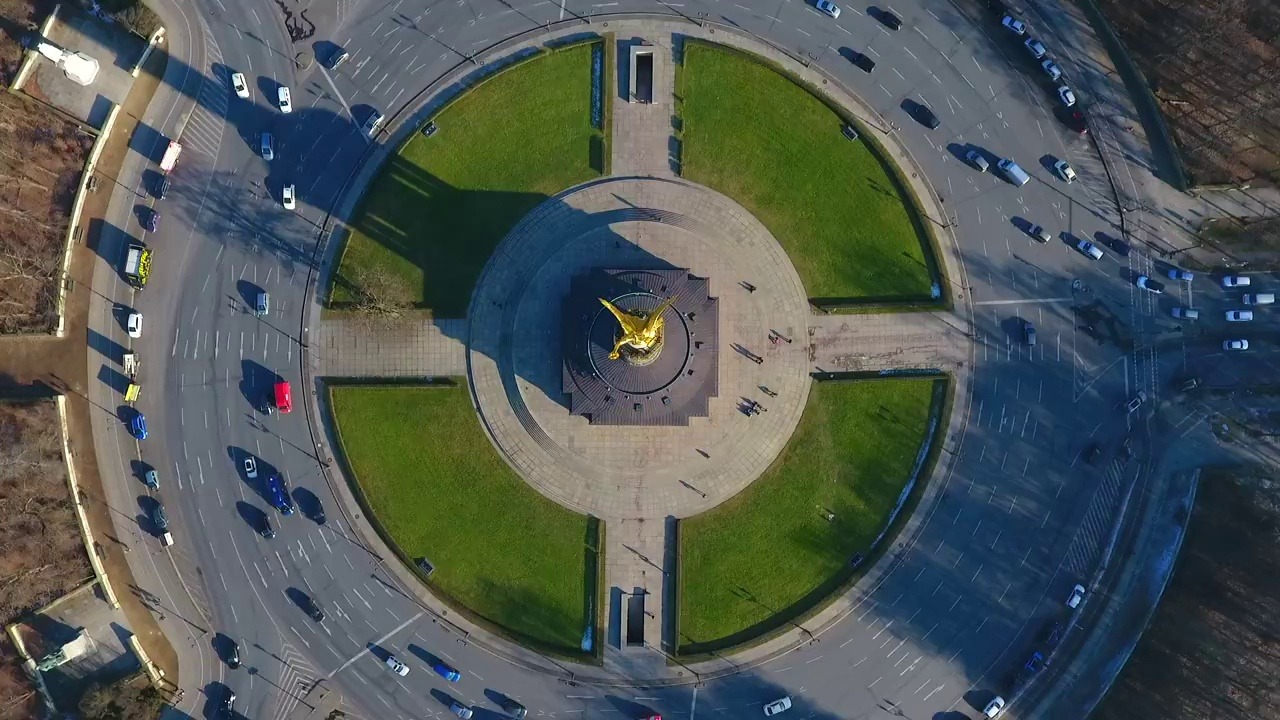car: (1029, 55, 1072, 89), (1075, 234, 1110, 265), (272, 78, 298, 119), (760, 692, 798, 720), (961, 143, 992, 177), (1050, 156, 1082, 188), (1015, 31, 1050, 60), (1024, 219, 1057, 248), (998, 10, 1032, 38), (278, 178, 302, 216), (229, 68, 254, 103), (258, 127, 281, 165), (1163, 262, 1199, 286), (1061, 579, 1087, 612), (1222, 303, 1259, 325), (1054, 80, 1080, 111), (1169, 303, 1207, 323), (1220, 337, 1252, 355)
van: (994, 153, 1034, 191), (269, 377, 296, 418), (1241, 286, 1280, 311)
